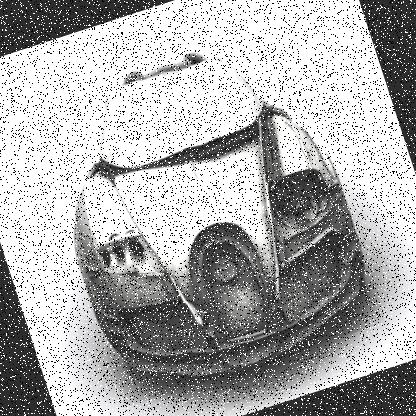Car: (27, 22, 387, 409)
